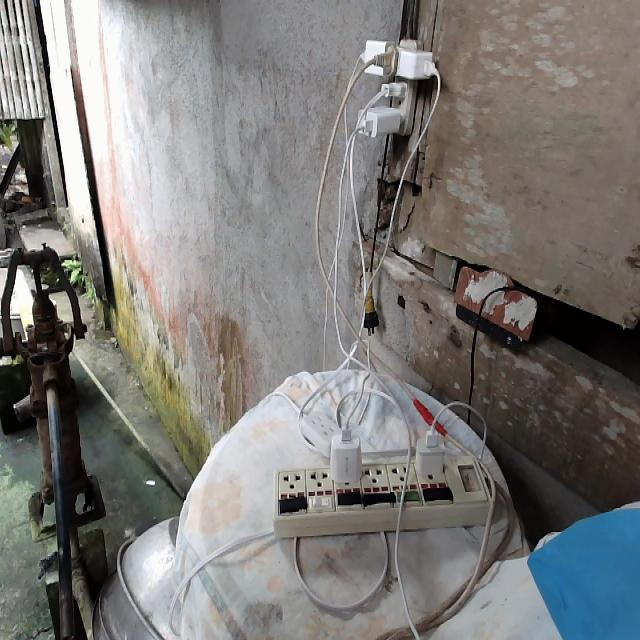-: (354, 32, 437, 136)
